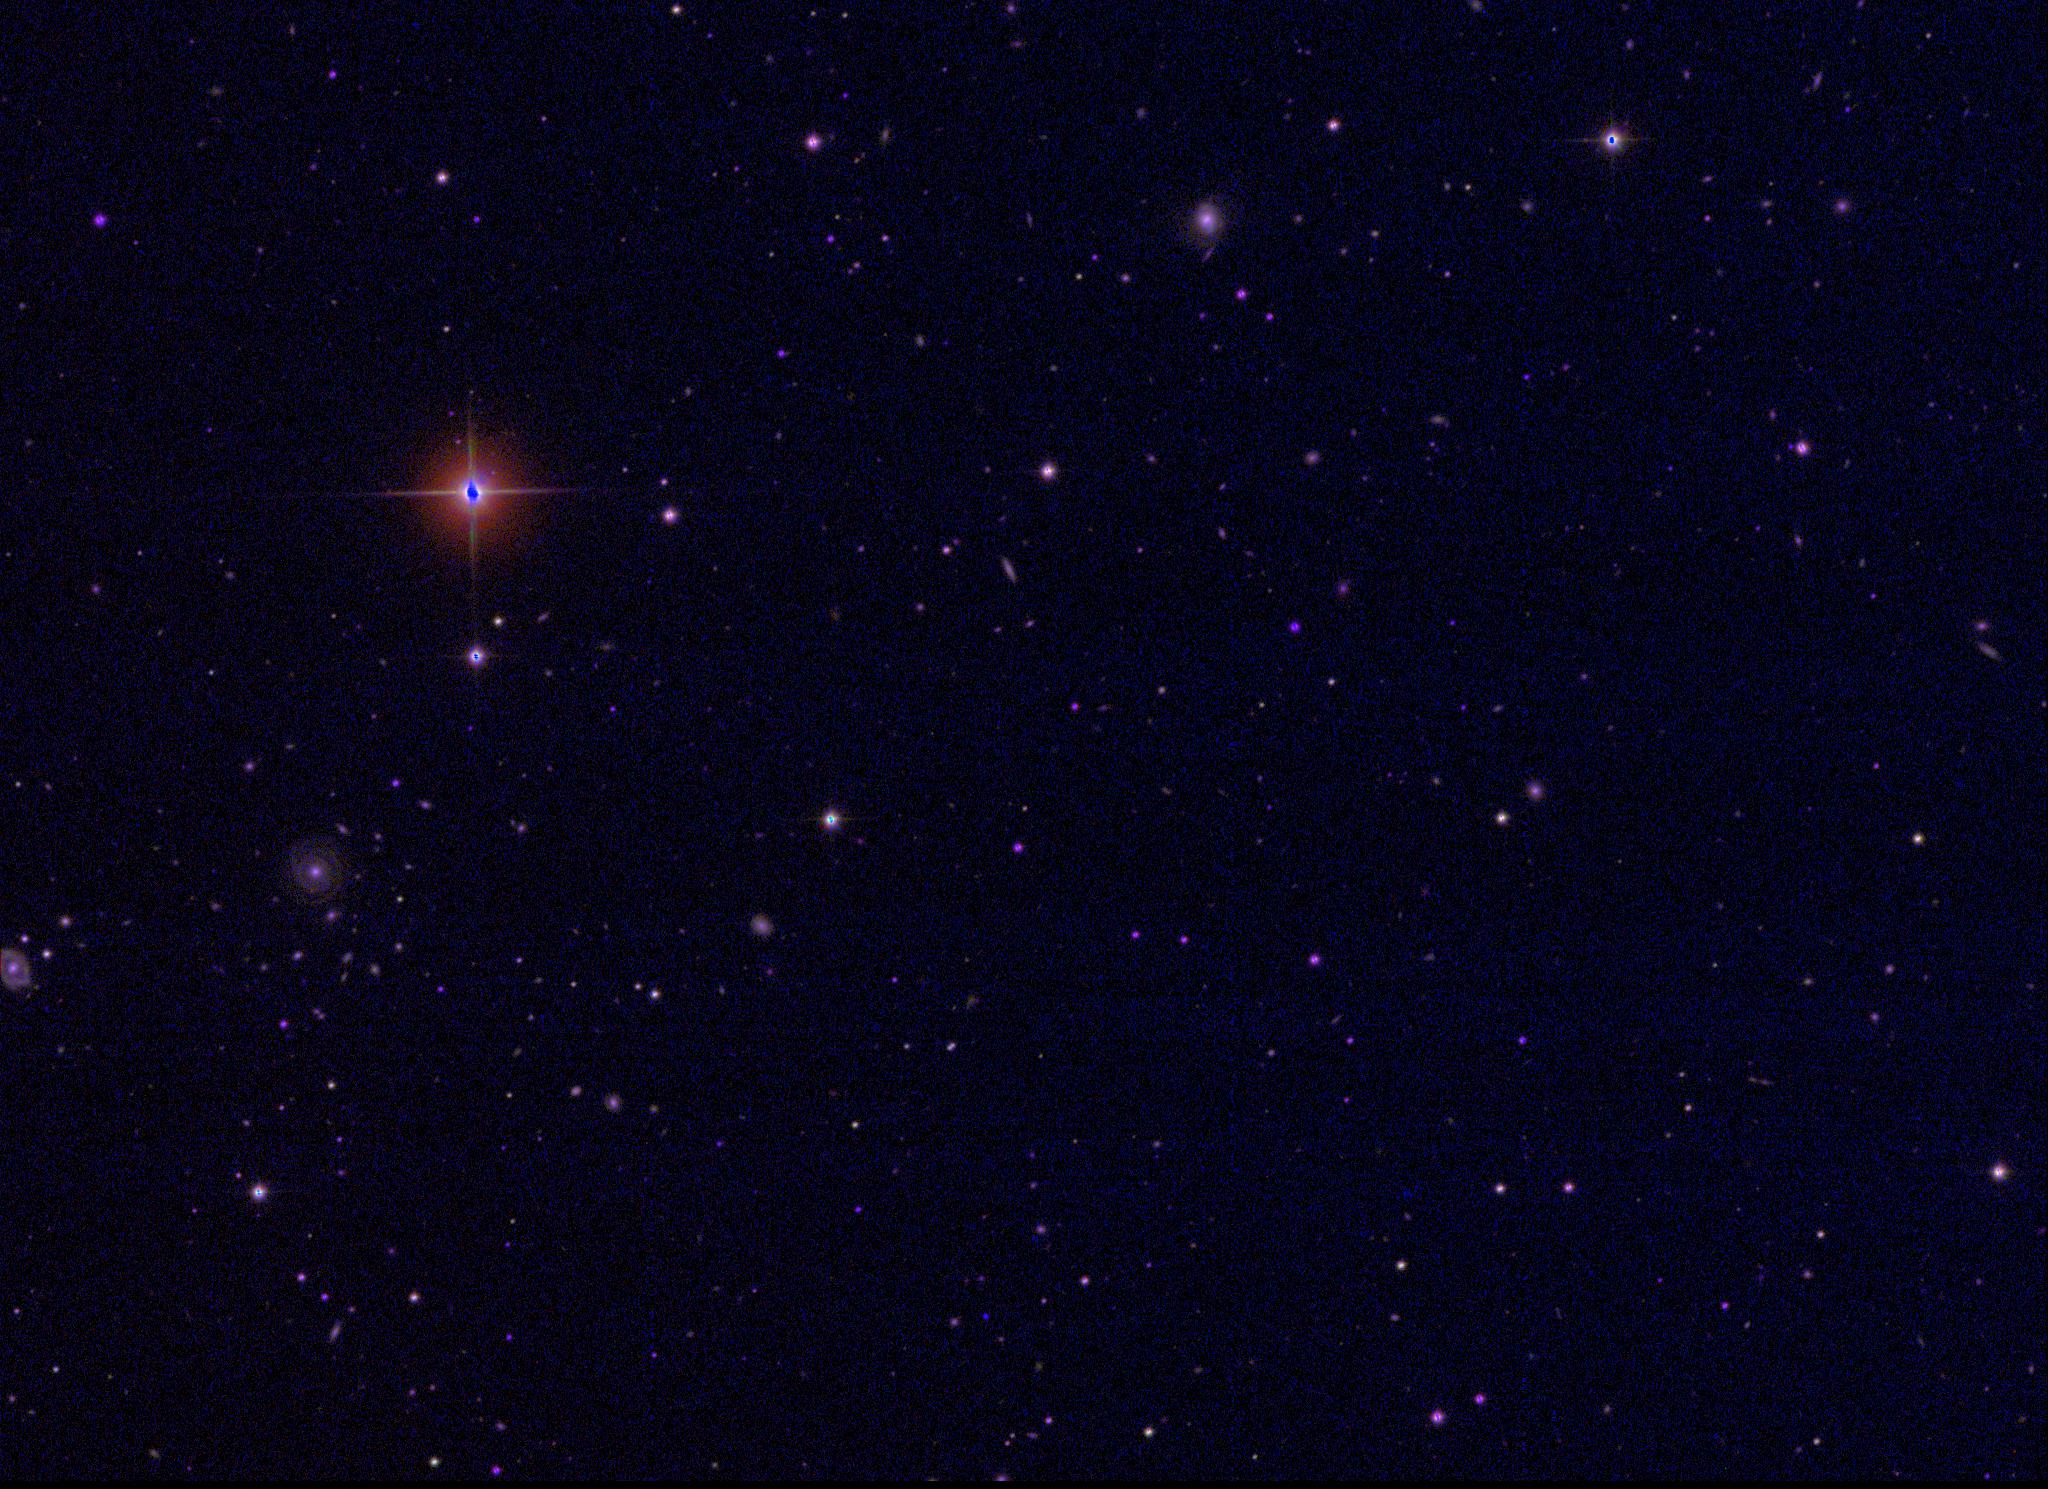L: (979, 1309, 994, 1324)
